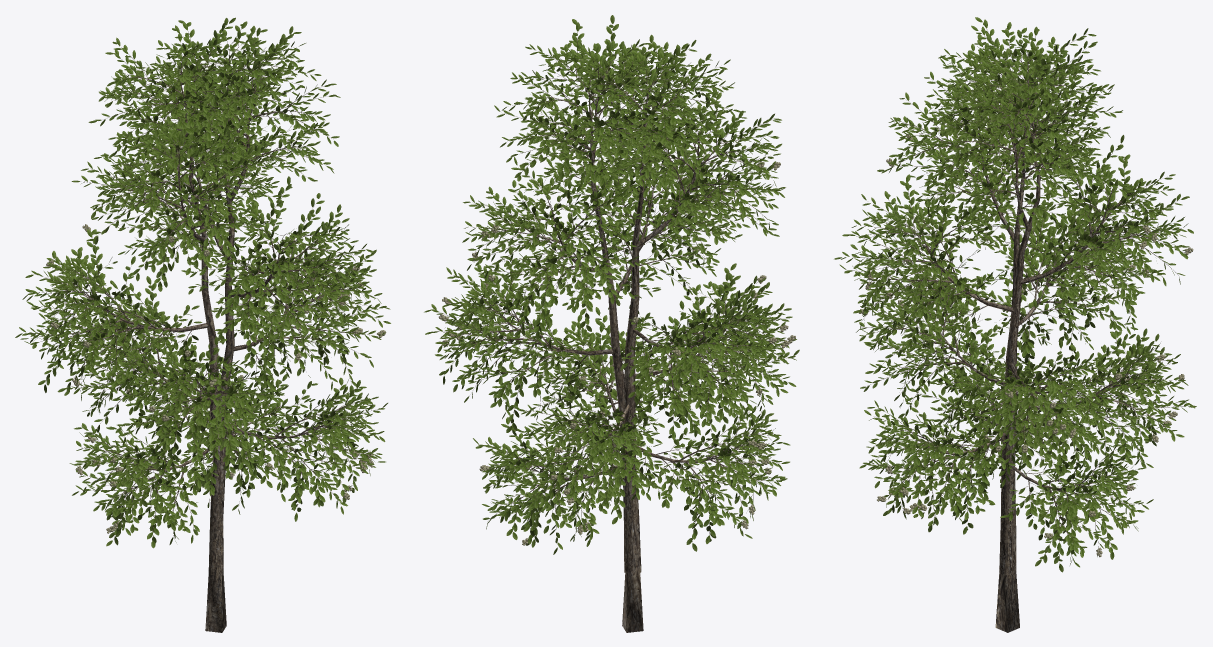
File: tree.fbx
3 renders of one model, left to right at view 1: azimuth 30°, elevation 25°; view 2: azimuth 150°, elevation 25°; view 3: azimuth 270°, elevation 25°, orthographic.
Parts seen in each view (by area): view 1: leaves, tree, fruits; view 2: leaves, tree, fruits; view 3: leaves, tree, fruits.
Part boxes in pixels (left/top/right/bottom): leaves: left=15, top=17, right=390, bottom=548; tree: left=31, top=24, right=378, bottom=632; fruits: left=46, top=128, right=385, bottom=533; leaves: left=424, top=15, right=799, bottom=554; tree: left=437, top=25, right=786, bottom=632; fruits: left=438, top=161, right=795, bottom=545; leaves: left=834, top=17, right=1196, bottom=572; tree: left=847, top=33, right=1186, bottom=632; fruits: left=859, top=134, right=1193, bottom=557.
Bounding box in the file's own units: 1209 × 1940 × 1101.
4 materials, 4 textured.
